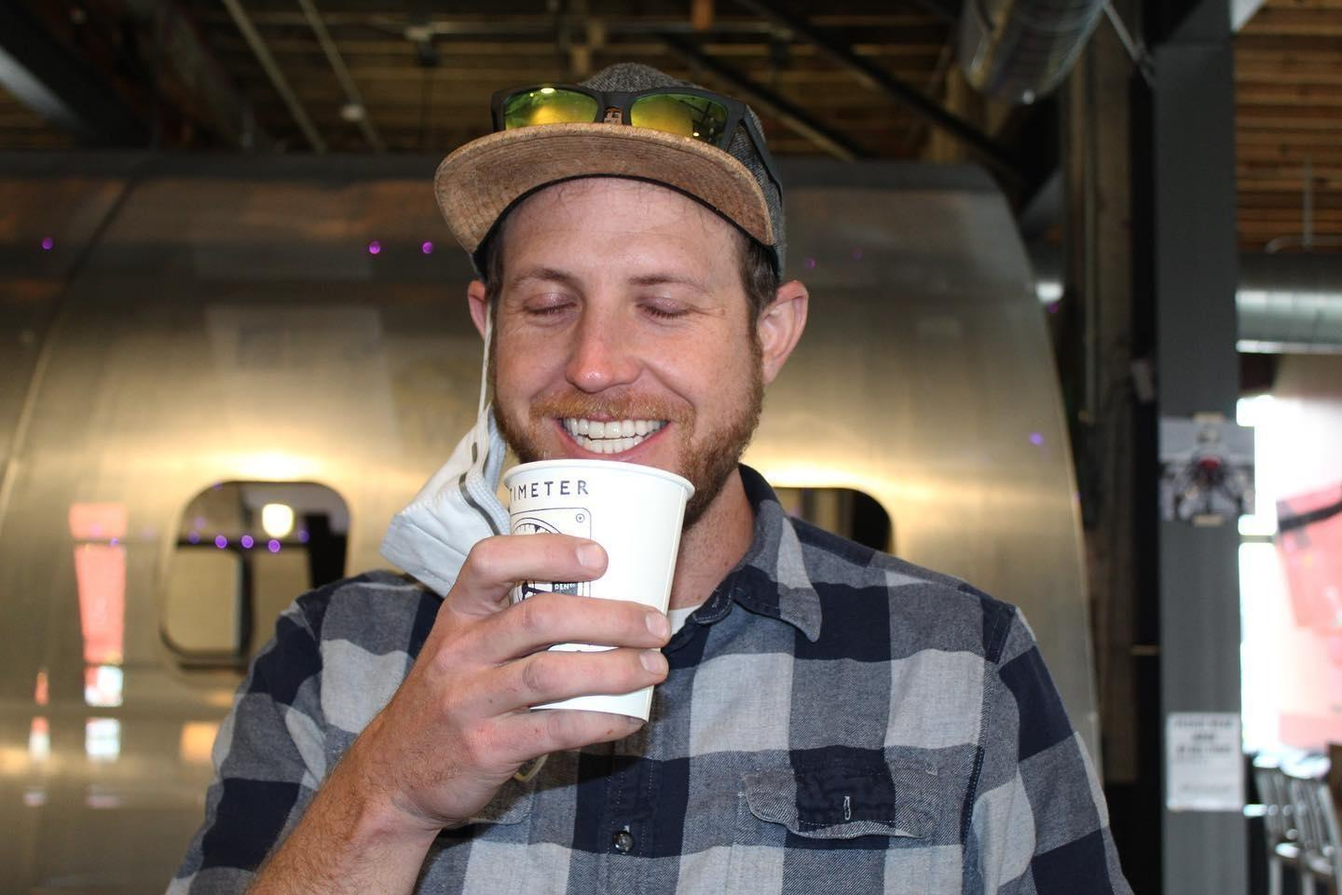cup-disposable: (497, 454, 702, 740)
